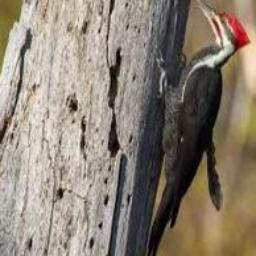Woodpecker: (141, 0, 251, 256)
